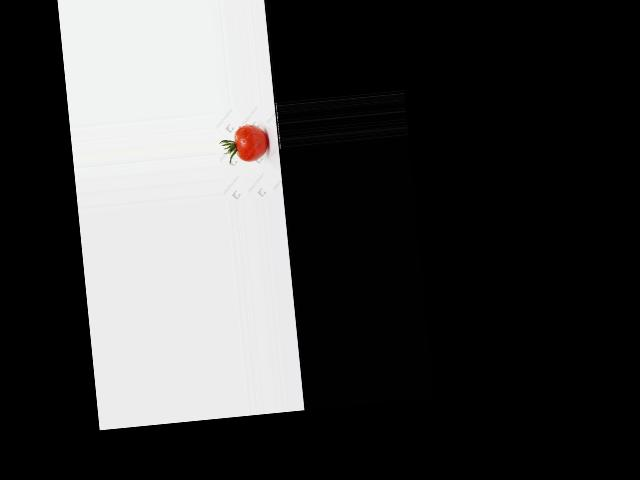tomato: (233, 124, 269, 163)
